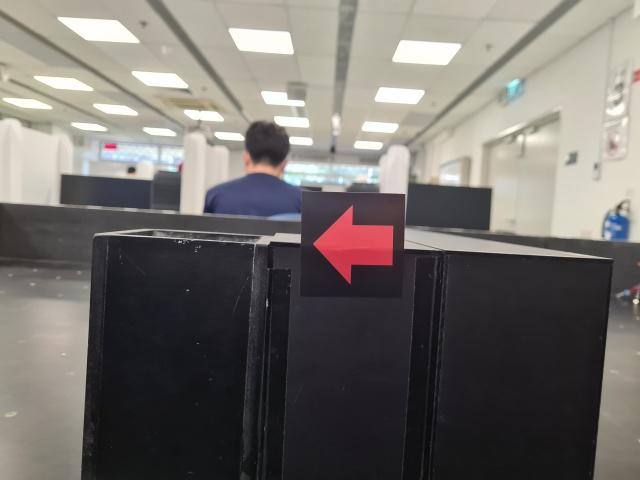left_arrow: (299, 191, 405, 302)
